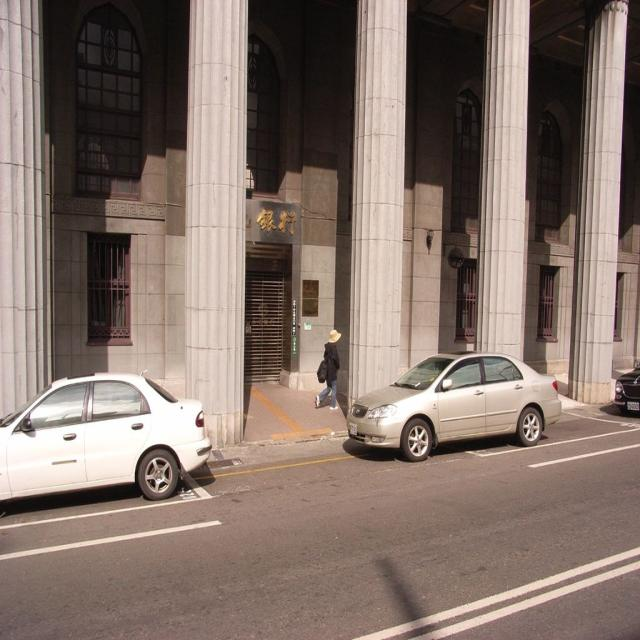car: (345, 349, 562, 459)
